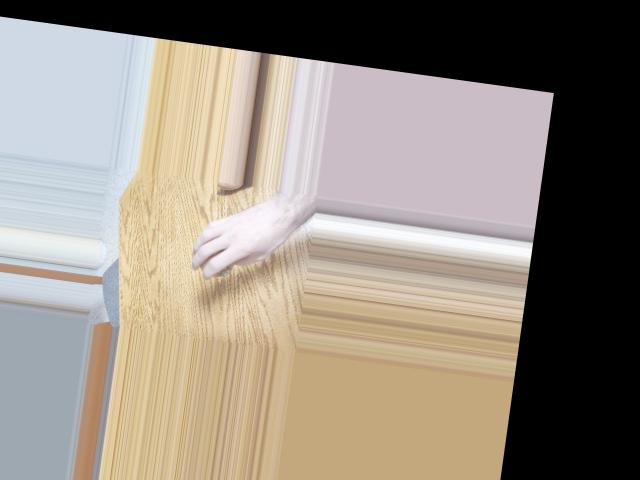onion: (195, 239, 240, 280)
